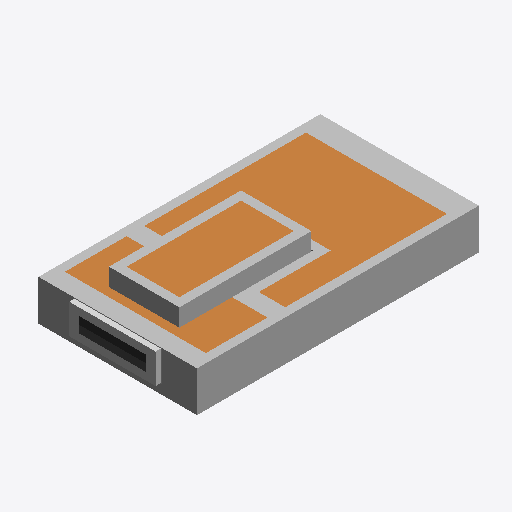
A Minecraft block model of 11 cuboids, rendered isometrically (azimuth 45°, elevation 35.3°) with the resource pack's own textures.
Visible parts, largest first — element 11, element 9, element 5, element 1, element 6, element 7, element 10, element 2, element 4.
Part boxes in pixels (x1,y1,x2,y2): element 11: (127,122,464,333); element 9: (109,191,310,327); element 5: (48,226,284,378); element 1: (285,222,478,363); element 6: (38,272,205,404); element 7: (69,299,160,385); element 10: (307,114,478,229); element 2: (38,313,284,414); element 4: (206,334,284,398).
Bounding box in the file's own units: 32.6 × 6.6 × 18.